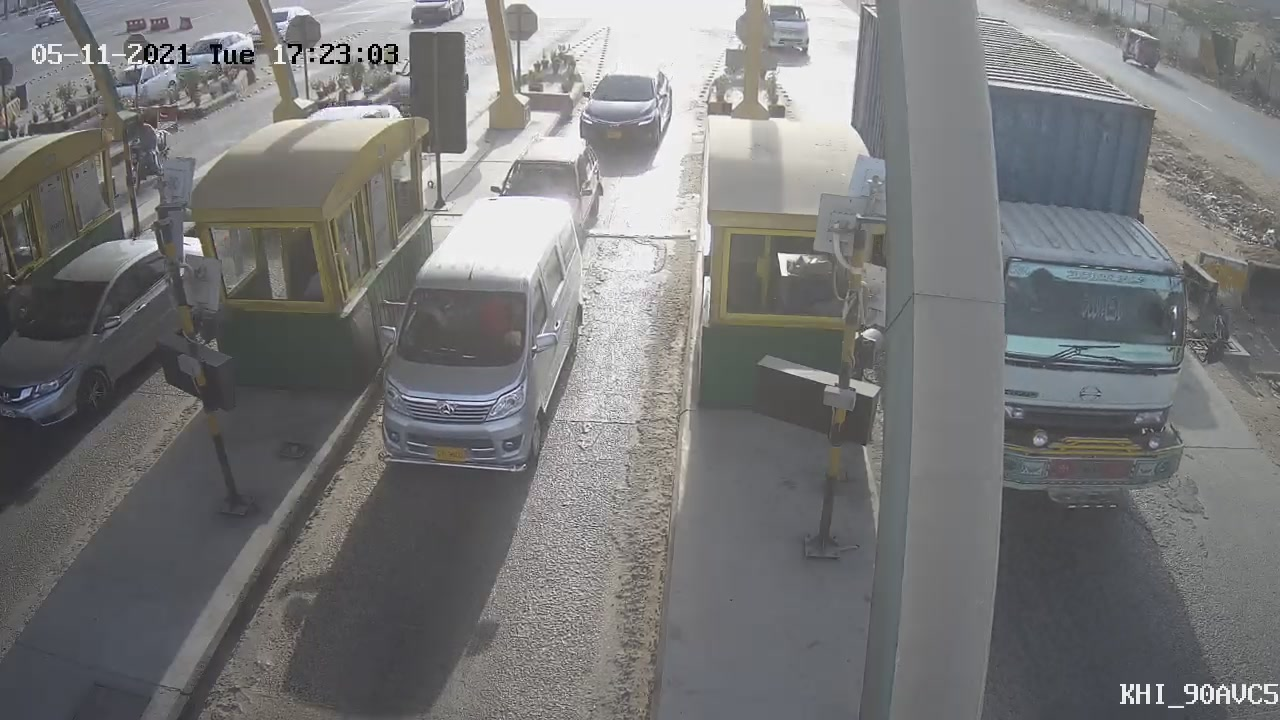F1: (375, 186, 592, 499), (566, 52, 683, 162)
